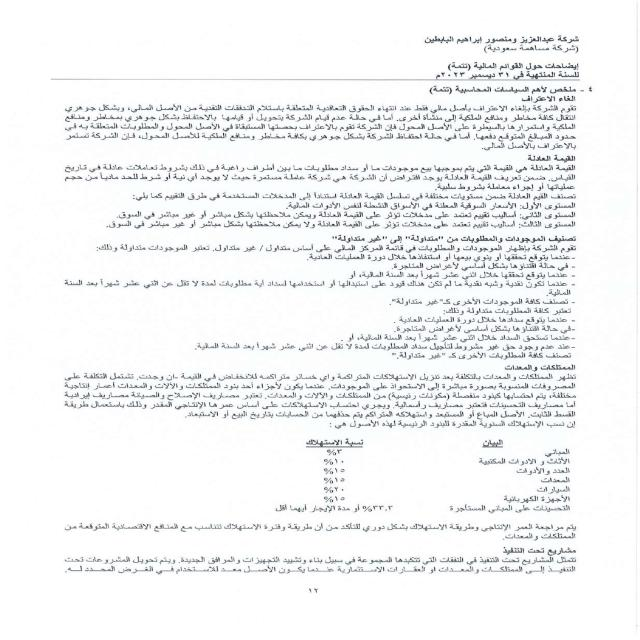notes: (446, 60, 586, 70)
text: (12, 80, 607, 592)
